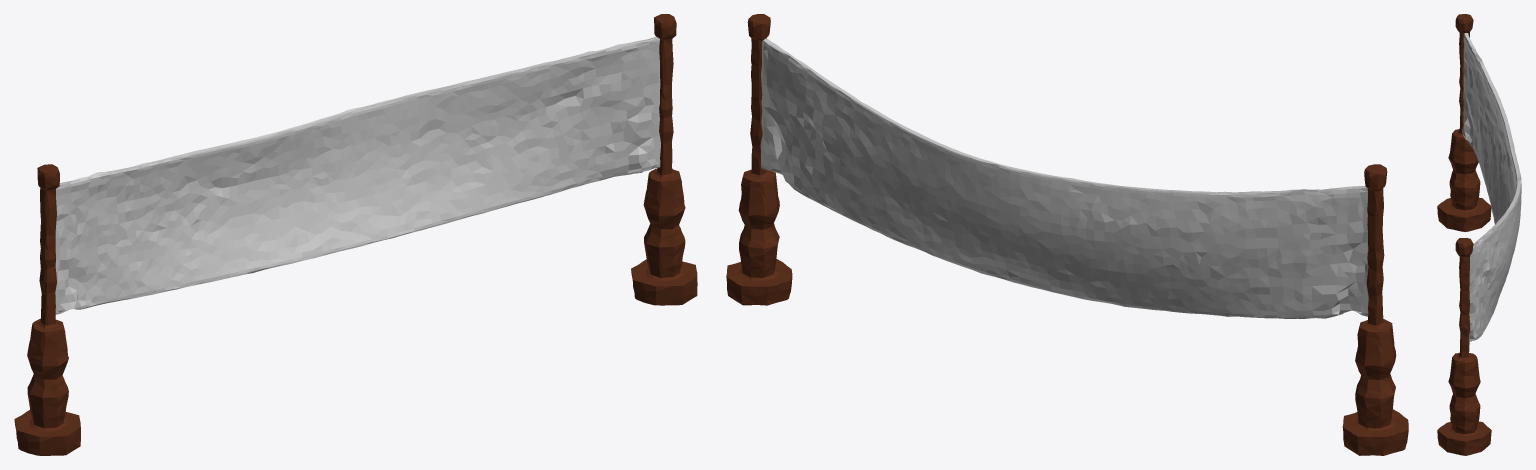
File: DesertLandSnakeFlag0186.obj
3 renders of one model, left to right at view 1: azimuth 30°, elevation 25°; view 2: azimuth 150°, elevation 25°; view 3: azimuth 270°, elevation 25°, orthographic. The views are drawn at different scales.
Visible parts, largest first — view 1: Cube.003, Cube, Cube.002; view 2: Cube.003, Cube, Cube.002; view 3: Cube.003, Cube.002, Cube.
Part boxes in pixels (left/top/right/bottom): Cube.003: left=55, top=36, right=660, bottom=314; Cube: left=14, top=164, right=80, bottom=455; Cube.002: left=631, top=14, right=697, bottom=305; Cube.003: left=760, top=38, right=1368, bottom=318; Cube: left=1342, top=164, right=1408, bottom=455; Cube.002: left=726, top=14, right=792, bottom=305; Cube.003: left=1462, top=33, right=1521, bottom=341; Cube.002: left=1437, top=238, right=1491, bottom=455; Cube: left=1437, top=14, right=1491, bottom=231.
Bounding box in the file's own units: 27.57 × 10.7 × 3.98.
